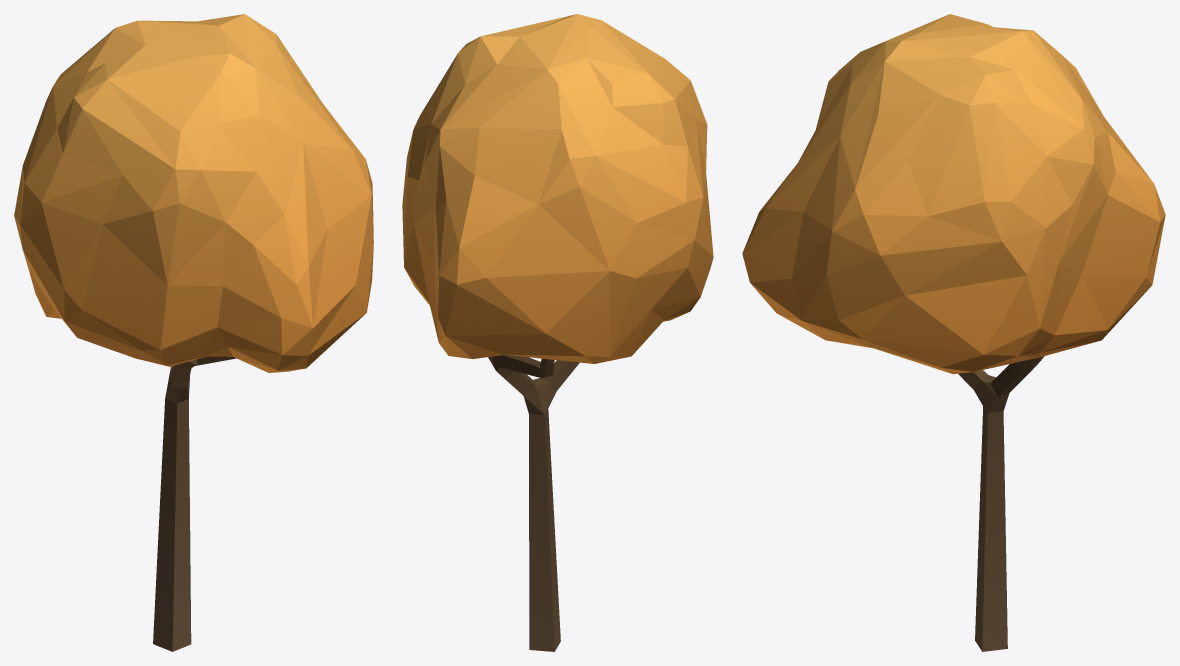
Rendered from large-tree-4.glb.
The picture shows the model from 3 angles, left to right: view 1: azimuth 30°, elevation 25°; view 2: azimuth 150°, elevation 25°; view 3: azimuth 270°, elevation 25°; orthographic projection. The views are drawn at different scales.
Parts seen in each view (by area): view 1: large-tree-4; view 2: large-tree-4; view 3: large-tree-4.
Part boxes in pixels (x1,y1,x2,y2): large-tree-4: [14, 14, 373, 651]; large-tree-4: [402, 14, 713, 651]; large-tree-4: [742, 14, 1165, 651].
Bounding box in the file's own units: 0.1788 × 0.3568 × 0.2246.
1 material, 1 textured.
